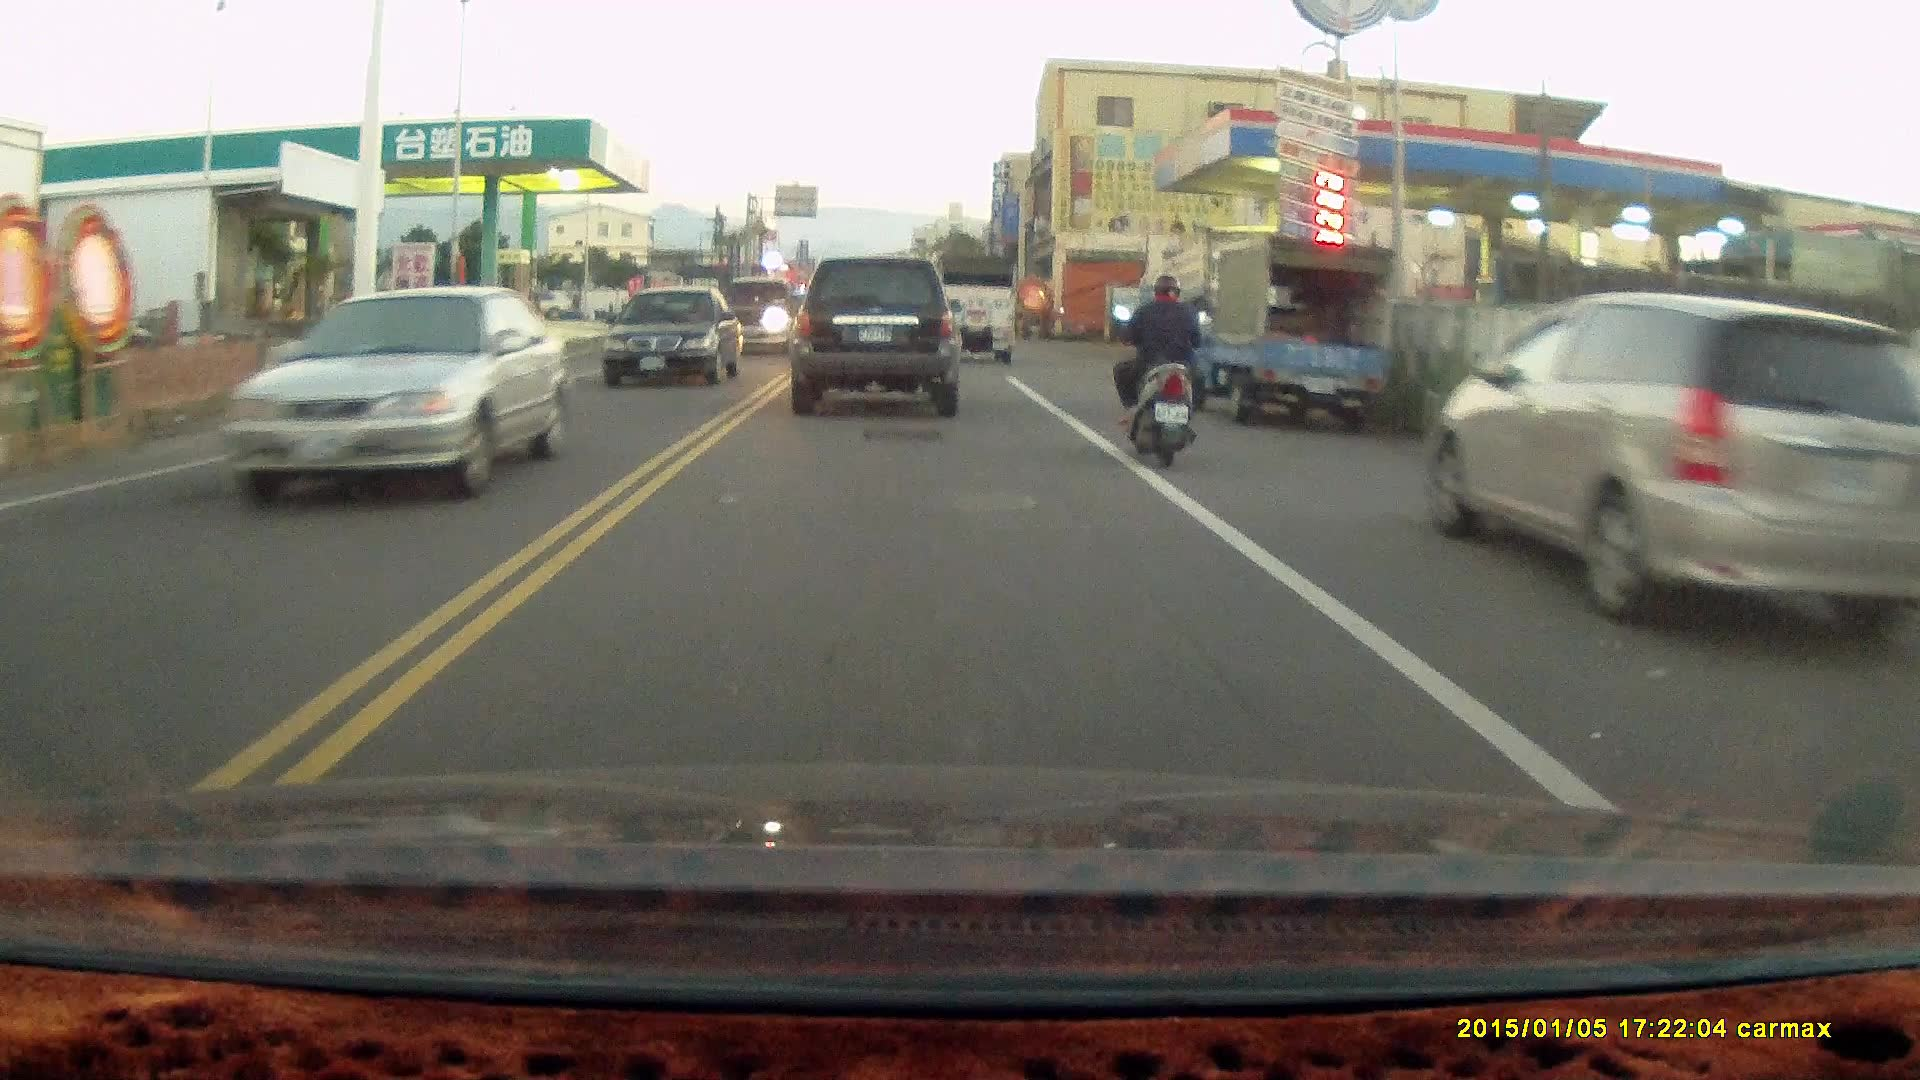rider: (1111, 272, 1213, 469)
vehicle: (1443, 294, 1871, 646), (231, 291, 562, 501), (1185, 241, 1396, 432), (786, 257, 961, 419), (601, 290, 744, 390), (935, 251, 1016, 364)
